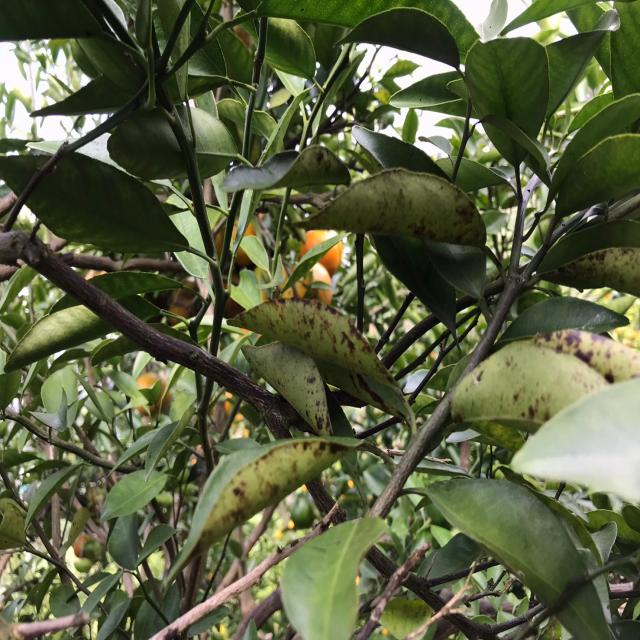melanose: (436, 335, 612, 484), (182, 425, 370, 561), (241, 279, 414, 406), (312, 155, 492, 277), (540, 223, 640, 317)
